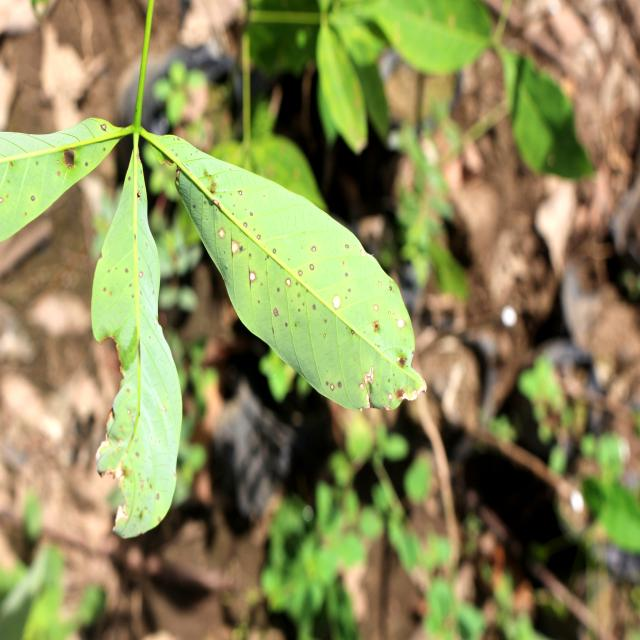Colletotrichum: (332, 295, 341, 309), (396, 318, 406, 329), (249, 271, 256, 282), (218, 228, 225, 238), (286, 278, 291, 286), (360, 383, 365, 391), (374, 304, 378, 312), (274, 308, 278, 316), (330, 383, 334, 390), (311, 246, 316, 251), (310, 264, 314, 270), (298, 270, 302, 276), (238, 190, 242, 196), (139, 271, 143, 277), (243, 222, 247, 227), (338, 382, 341, 388), (346, 244, 350, 248), (256, 235, 260, 239), (249, 212, 253, 216), (273, 249, 276, 253), (351, 330, 354, 334), (313, 305, 315, 310), (278, 288, 280, 291)
